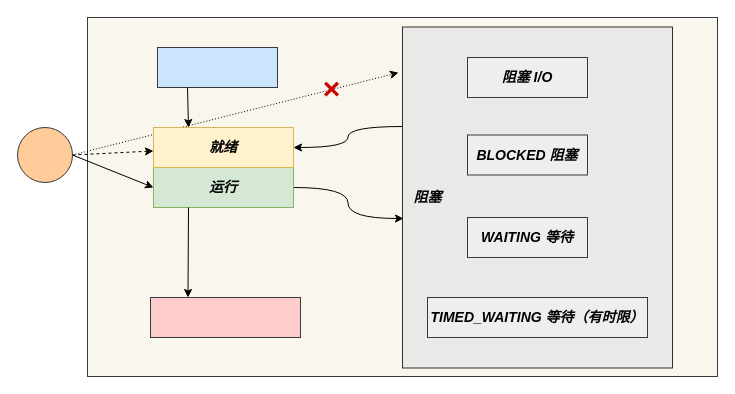
Some shapes in this 735 by 394 pixel diagram are drawn without their labels. The box of each missing label's shape, as (x1, y1, x2, y2) in pixels:
CPU: (16, 126, 72, 182)
新建: (156, 46, 278, 88)
终结: (150, 296, 300, 338)
